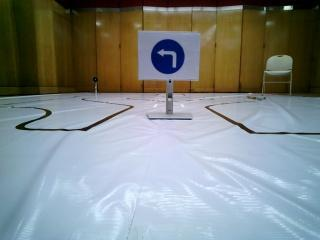left: (140, 34, 195, 77)
